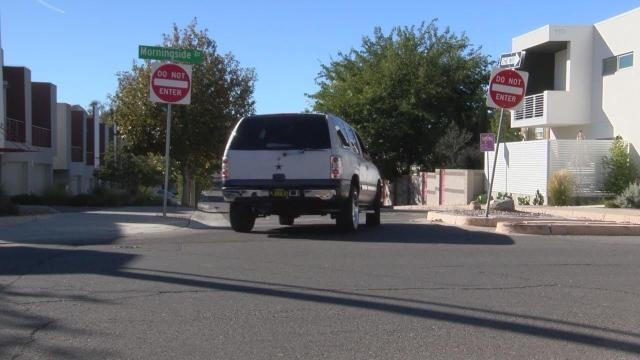B2: (148, 62, 192, 106), (486, 66, 528, 110)
